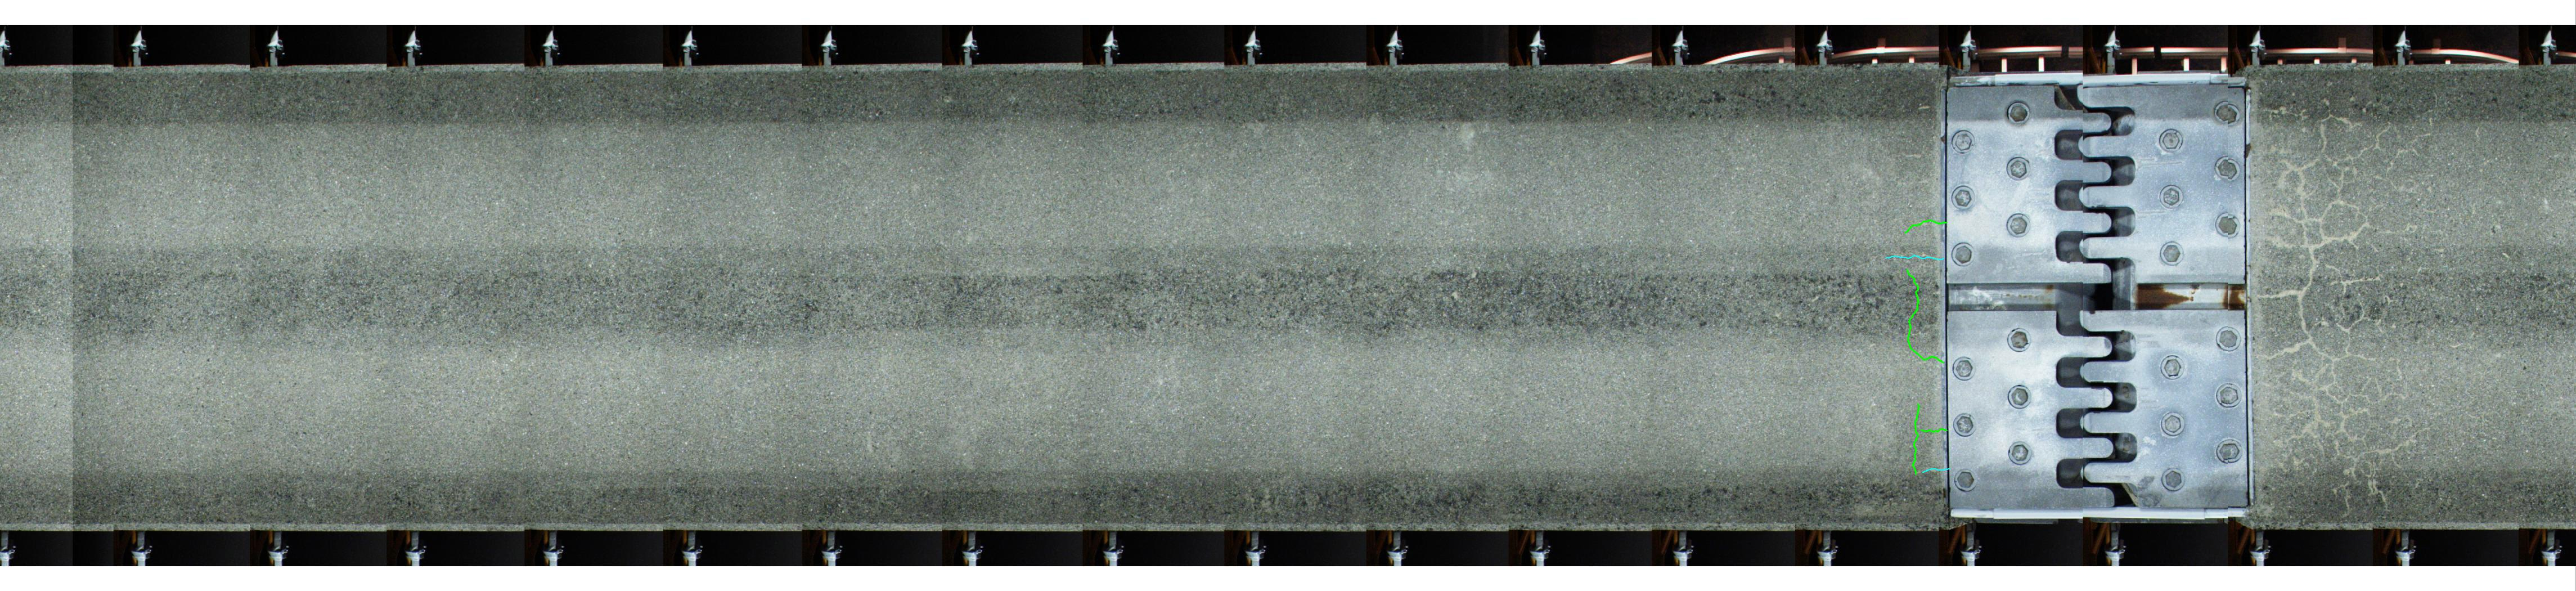concrete: (0, 64, 1942, 530), (2249, 74, 2566, 529)
